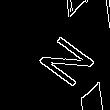N_NW: (19, 24, 91, 86)
